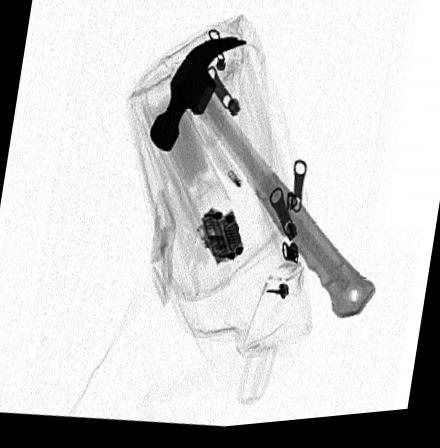Hammer: (148, 39, 377, 325)
